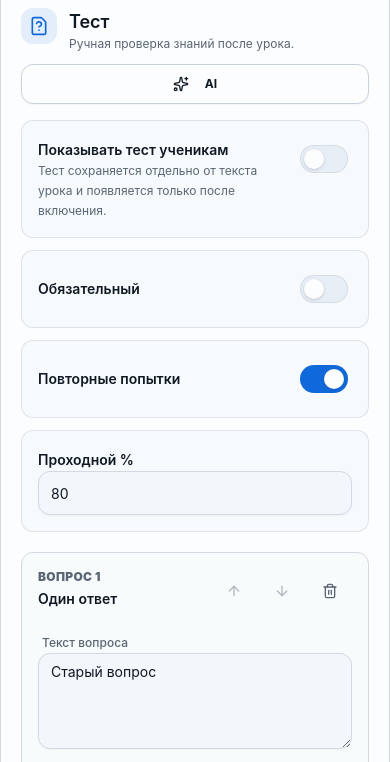
Test: LessonQuizEditor › asks for confirmation before replacing existing quiz questions
This screenshot has width=390, height=762.
Check: the text box showing "Старый вопрос" is shown, box left=38, top=653, right=352, bottom=749
Click the button "AI" at (181, 84), box left=21, top=64, right=369, bottom=104
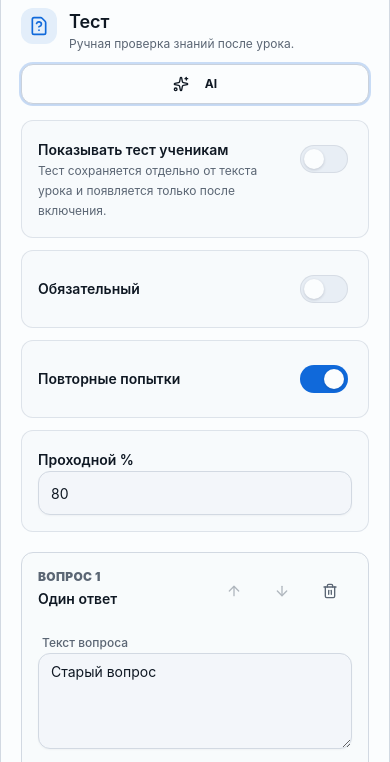
Click the button "AI" at (181, 84), box left=21, top=64, right=369, bottom=104
(page scrolled)
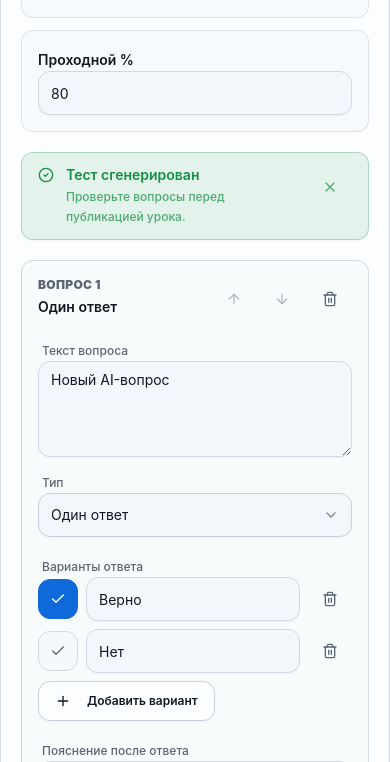
Check: the text box showing "Новый AI-вопрос" is shown, box left=38, top=361, right=352, bottom=457
